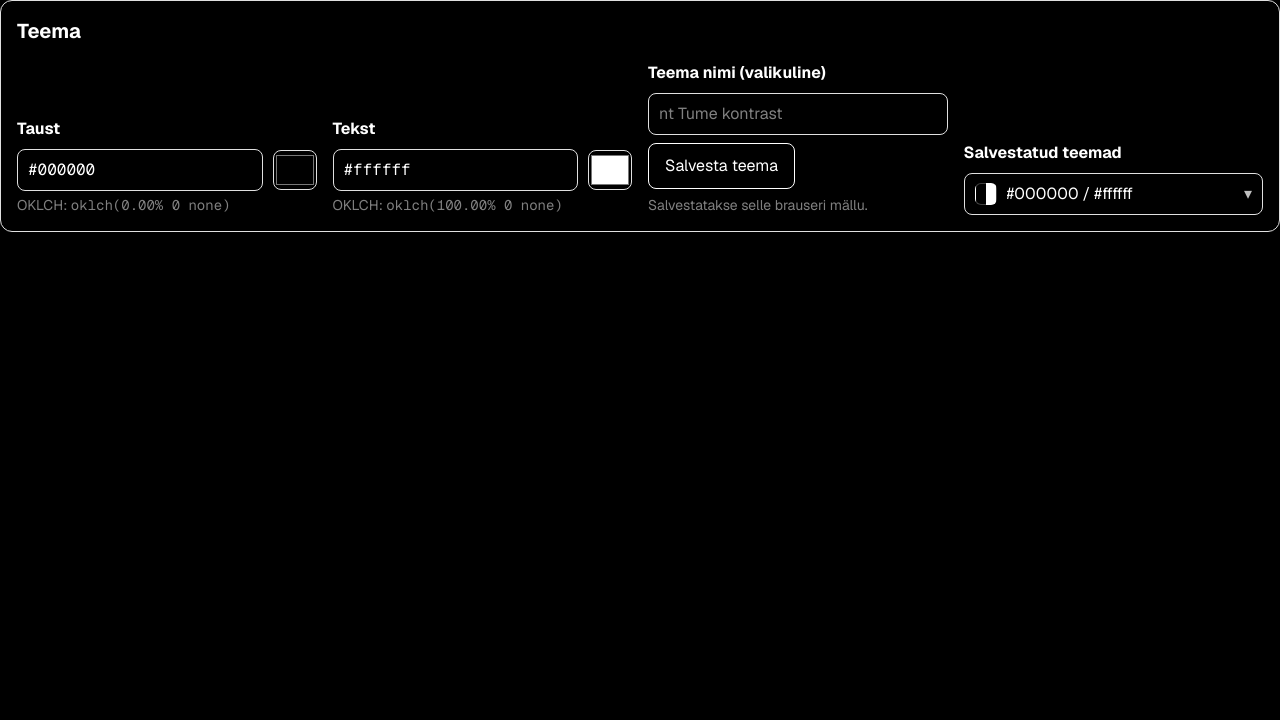
Test case: ThemePicker › loads saved themes and switches to one picked from the list
The image size is (1280, 720).
expect the field labelled "Taust" holds "#000000": met, box left=17, top=149, right=262, bottom=191
Click the dropdown named "Salvestatud teemad".
click(1113, 194)  # box left=964, top=173, right=1263, bottom=215
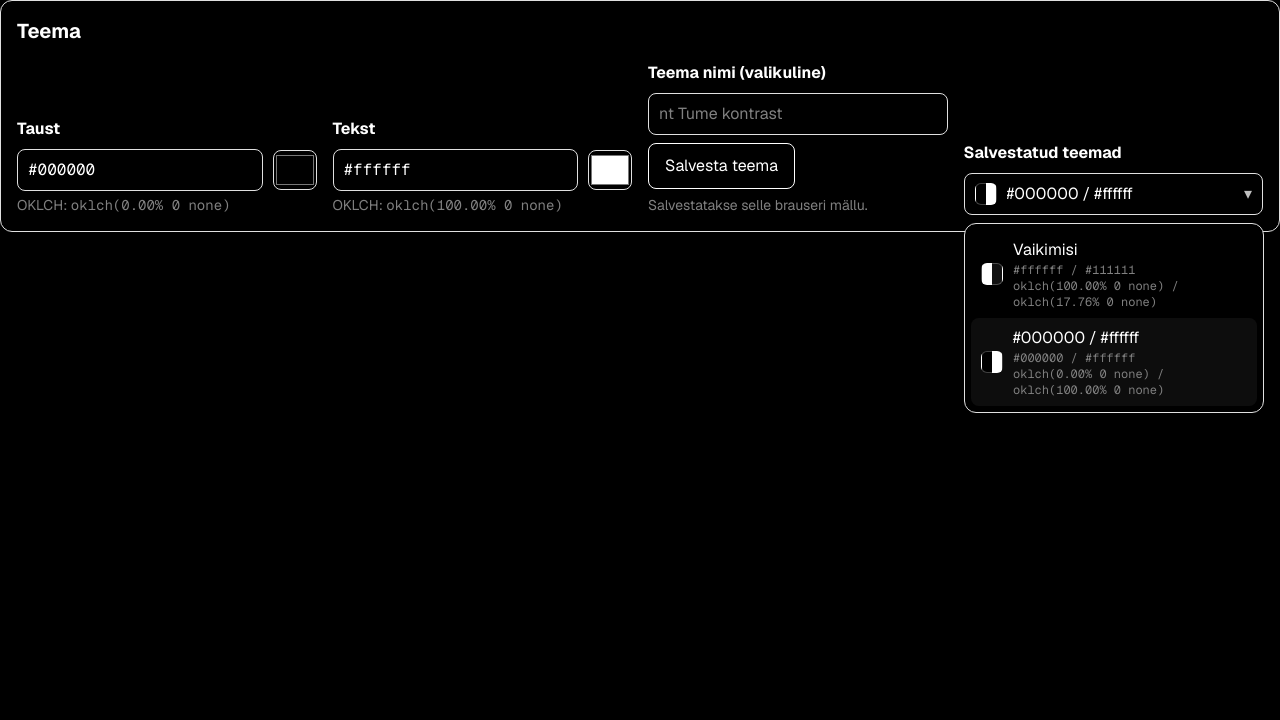
Click the option "Vaikimisi".
click(1080, 274)  # box left=981, top=239, right=1179, bottom=310
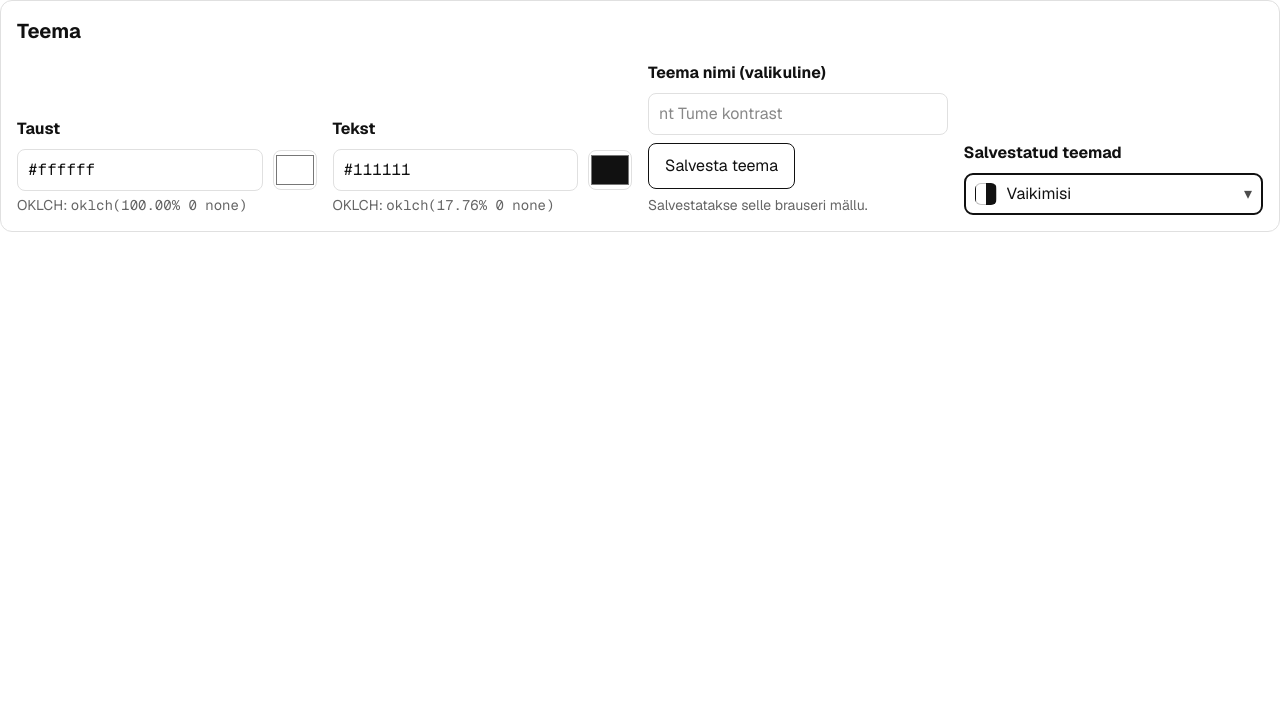
expect the field labelled "Taust" holds "#ffffff": met, box left=17, top=149, right=262, bottom=191
